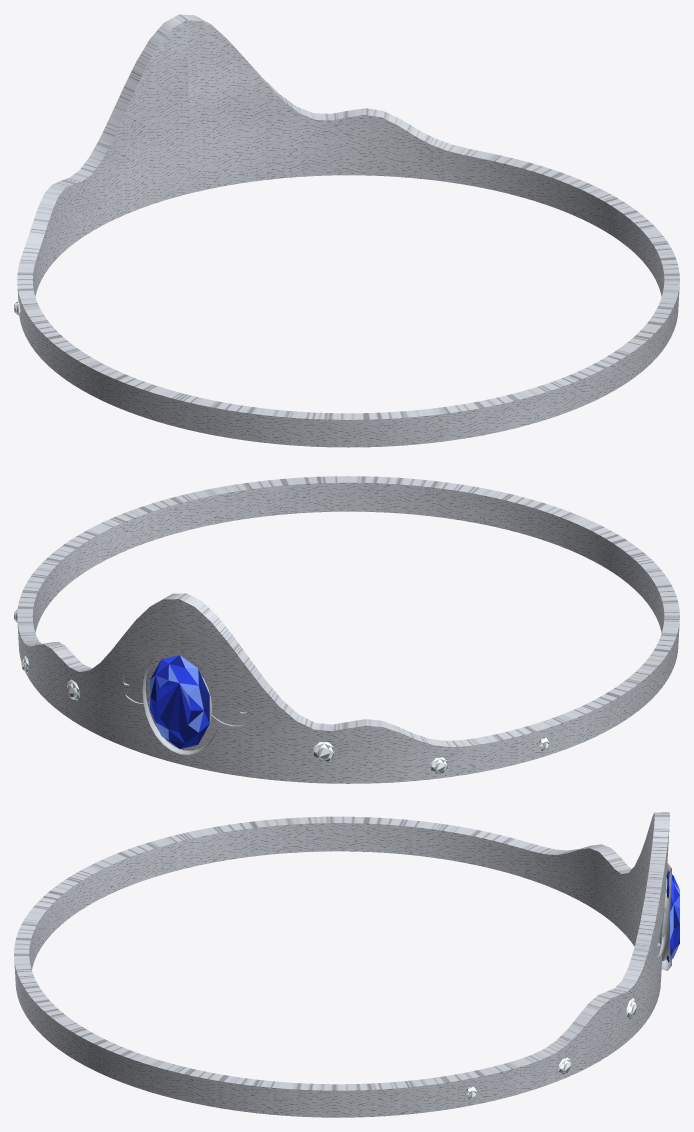
The model's file is SilverCirclet.glb.
3 renders of one model, top to bottom at view 1: azimuth 30°, elevation 25°; view 2: azimuth 150°, elevation 25°; view 3: azimuth 270°, elevation 25°, orthographic. The views are drawn at different scales.
Visible parts, largest first — view 1: SilverCirclet; view 2: SilverCirclet; view 3: SilverCirclet.
Boxes of the visible parts, x1=… form: SilverCirclet: x1=14, y1=14, x2=679, y2=447; SilverCirclet: x1=14, y1=476, x2=679, y2=783; SilverCirclet: x1=14, y1=812, x2=679, y2=1117.
Size of the model in its own units: 1.28 by 0.36 by 1.31.
1 material, 1 textured.
